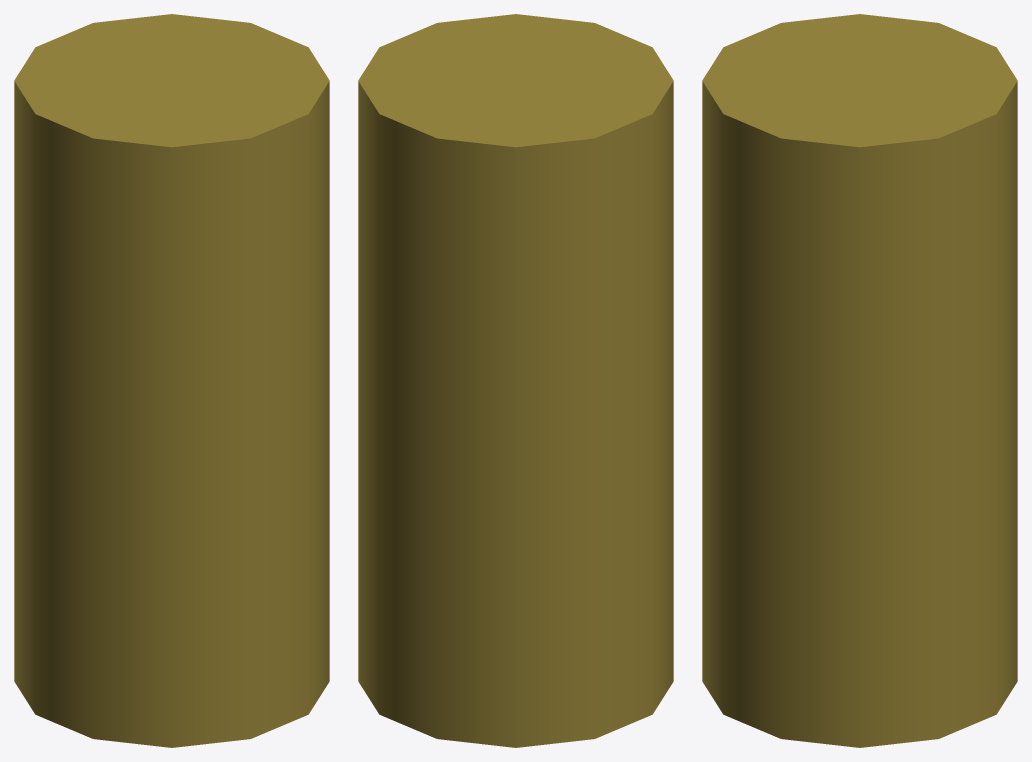
The model's file is original-9.obj.
The picture shows the model from 3 angles, left to right: view 1: azimuth 30°, elevation 25°; view 2: azimuth 150°, elevation 25°; view 3: azimuth 270°, elevation 25°; orthographic projection.
Parts seen in each view (by area): view 1: group_3/ID39#ID39; view 2: group_3/ID39#ID39; view 3: group_3/ID39#ID39.
Part boxes in pixels (x1,y1,x2,y2): group_3/ID39#ID39: (14, 14, 329, 747); group_3/ID39#ID39: (358, 14, 673, 747); group_3/ID39#ID39: (702, 14, 1017, 747).
Bounding box in the file's own units: 0.0408 × 0.0857 × 0.0408.
